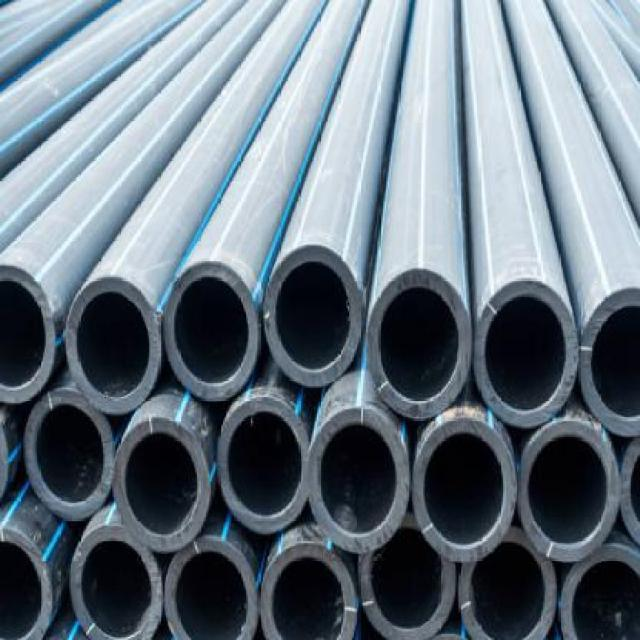pipe: (366, 268, 471, 419), (474, 277, 579, 428), (413, 419, 516, 564), (308, 406, 410, 552), (518, 418, 620, 560), (264, 245, 363, 387), (164, 259, 260, 401), (113, 417, 210, 552), (66, 276, 160, 415), (216, 395, 310, 534), (359, 514, 456, 639), (25, 388, 114, 521), (458, 526, 558, 640), (70, 526, 164, 640), (165, 535, 259, 640), (258, 540, 357, 639), (580, 287, 639, 438), (1, 265, 57, 403), (560, 545, 639, 639), (0, 523, 54, 639)
